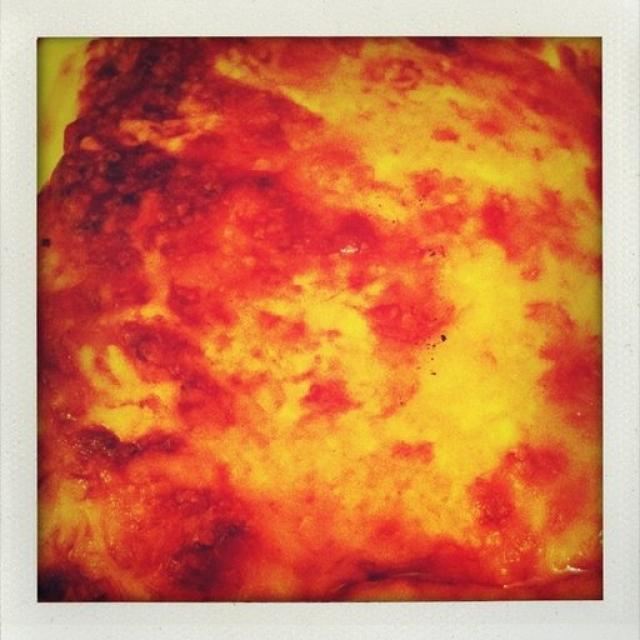Lasagna: (57, 48, 568, 563)
